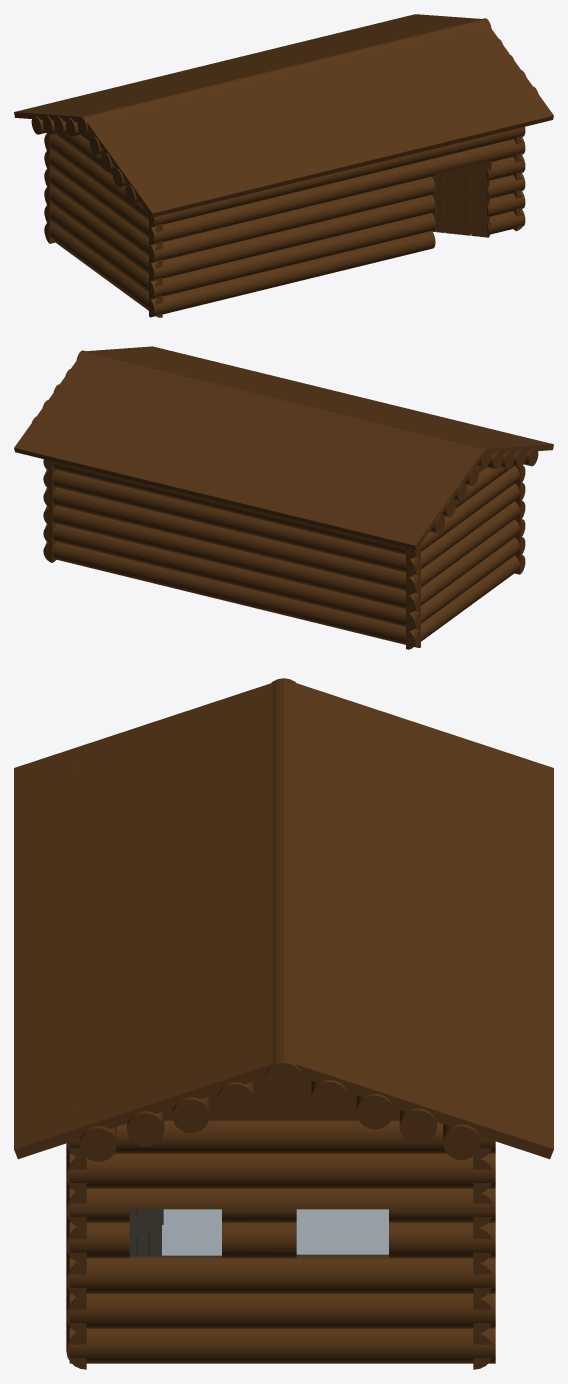
The model's file is Shack.fbx.
3 renders of one model, top to bottom at view 1: azimuth 30°, elevation 25°; view 2: azimuth 150°, elevation 25°; view 3: azimuth 270°, elevation 25°, orthographic. The views are drawn at different scales.
Visible parts, largest first — view 1: pCube8, pCylinder32, group1_pasted__pCylinder11, pCube9, pasted__pasted__pasted__pCube30, pCylinder26, pCylinder19; view 2: pCube9, pCylinder19, group1_pasted__pCylinder11, pCube8, pCylinder26, group2_pasted__pCylinder21, pCylinder32; view 3: pCube9, pCube8, group2_pasted__pCylinder21, pCylinder26, pCube25, pCube26, pCylinder32, pCylinder19, pasted__pasted__pasted__pCube30, pCube18, pCylinder24, pCylinder25 (+6 smaller).
Part boxes in pixels (x1,y1,x2,y2): pCube8: (83,19,553,217); pCylinder32: (149,127,525,317); group1_pasted__pCylinder11: (44,133,162,317); pCube9: (14,14,483,122); pasted__pasted__pasted__pCube30: (432,161,491,237); pCylinder26: (77,18,491,135); pCylinder19: (44,133,55,243); pCube9: (14,351,483,549); pCylinder19: (45,461,420,647); group1_pasted__pCylinder11: (406,466,519,649); pCube8: (84,346,553,454); pCylinder26: (76,350,490,467); group2_pasted__pCylinder21: (43,459,56,562); pCylinder32: (514,465,525,574); pCube9: (284,679,553,1159); pCube8: (14,679,283,1159); group2_pasted__pCylinder21: (69,1120,495,1363); pCylinder26: (265,678,302,1096); pCube25: (129,1209,221,1256); pCube26: (296,1209,388,1255); pCylinder32: (66,1142,86,1369); pCylinder19: (473,1148,491,1369); pasted__pasted__pasted__pCube30: (129,1209,163,1255); pCube18: (77,1107,399,1120); pCylinder24: (172,1096,209,1133); pCylinder25: (217,1081,254,1117).
Bounding box in the file's own units: 12.99 × 5.09 × 7.71.
